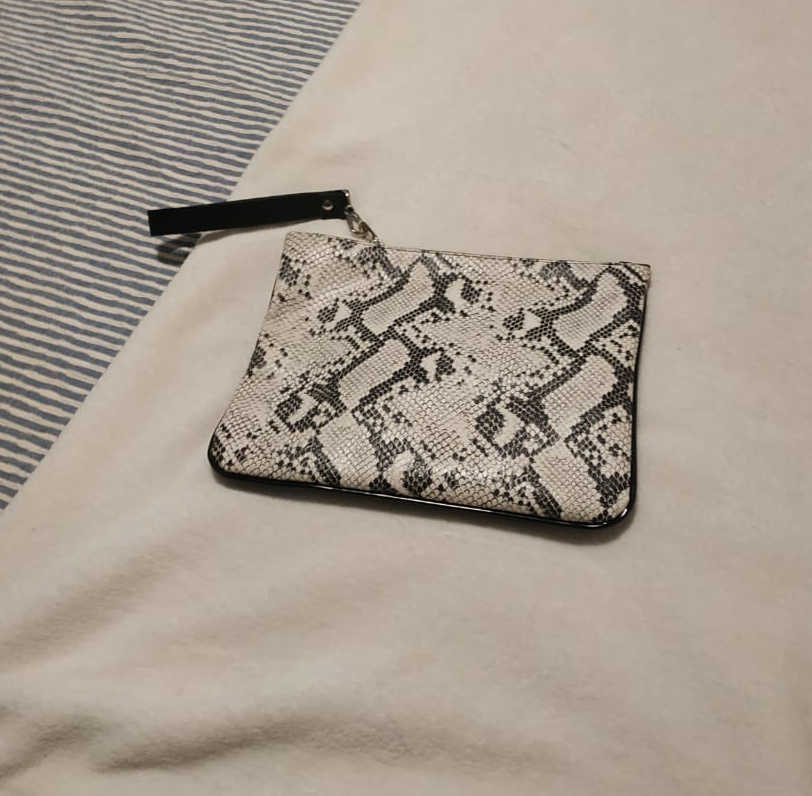cartera: (100, 111, 757, 615)
cuero: (202, 190, 760, 576)
